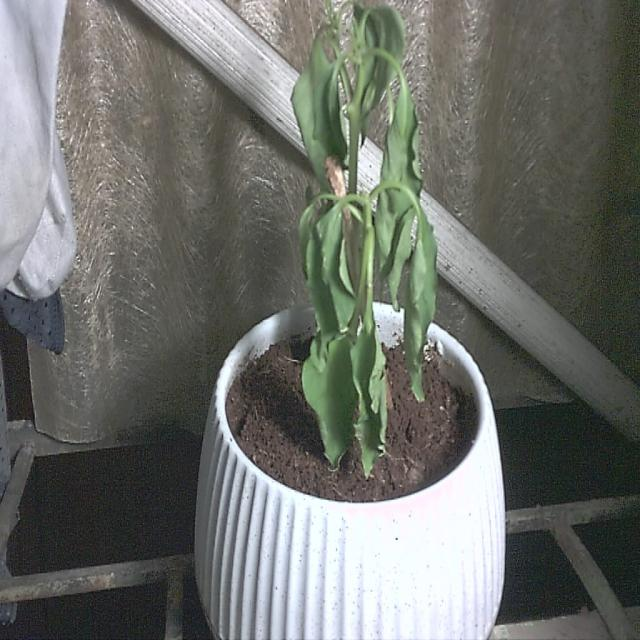Leaf: (299, 328, 388, 474), (374, 81, 417, 305), (286, 39, 347, 188), (299, 206, 358, 332), (404, 202, 438, 404)
